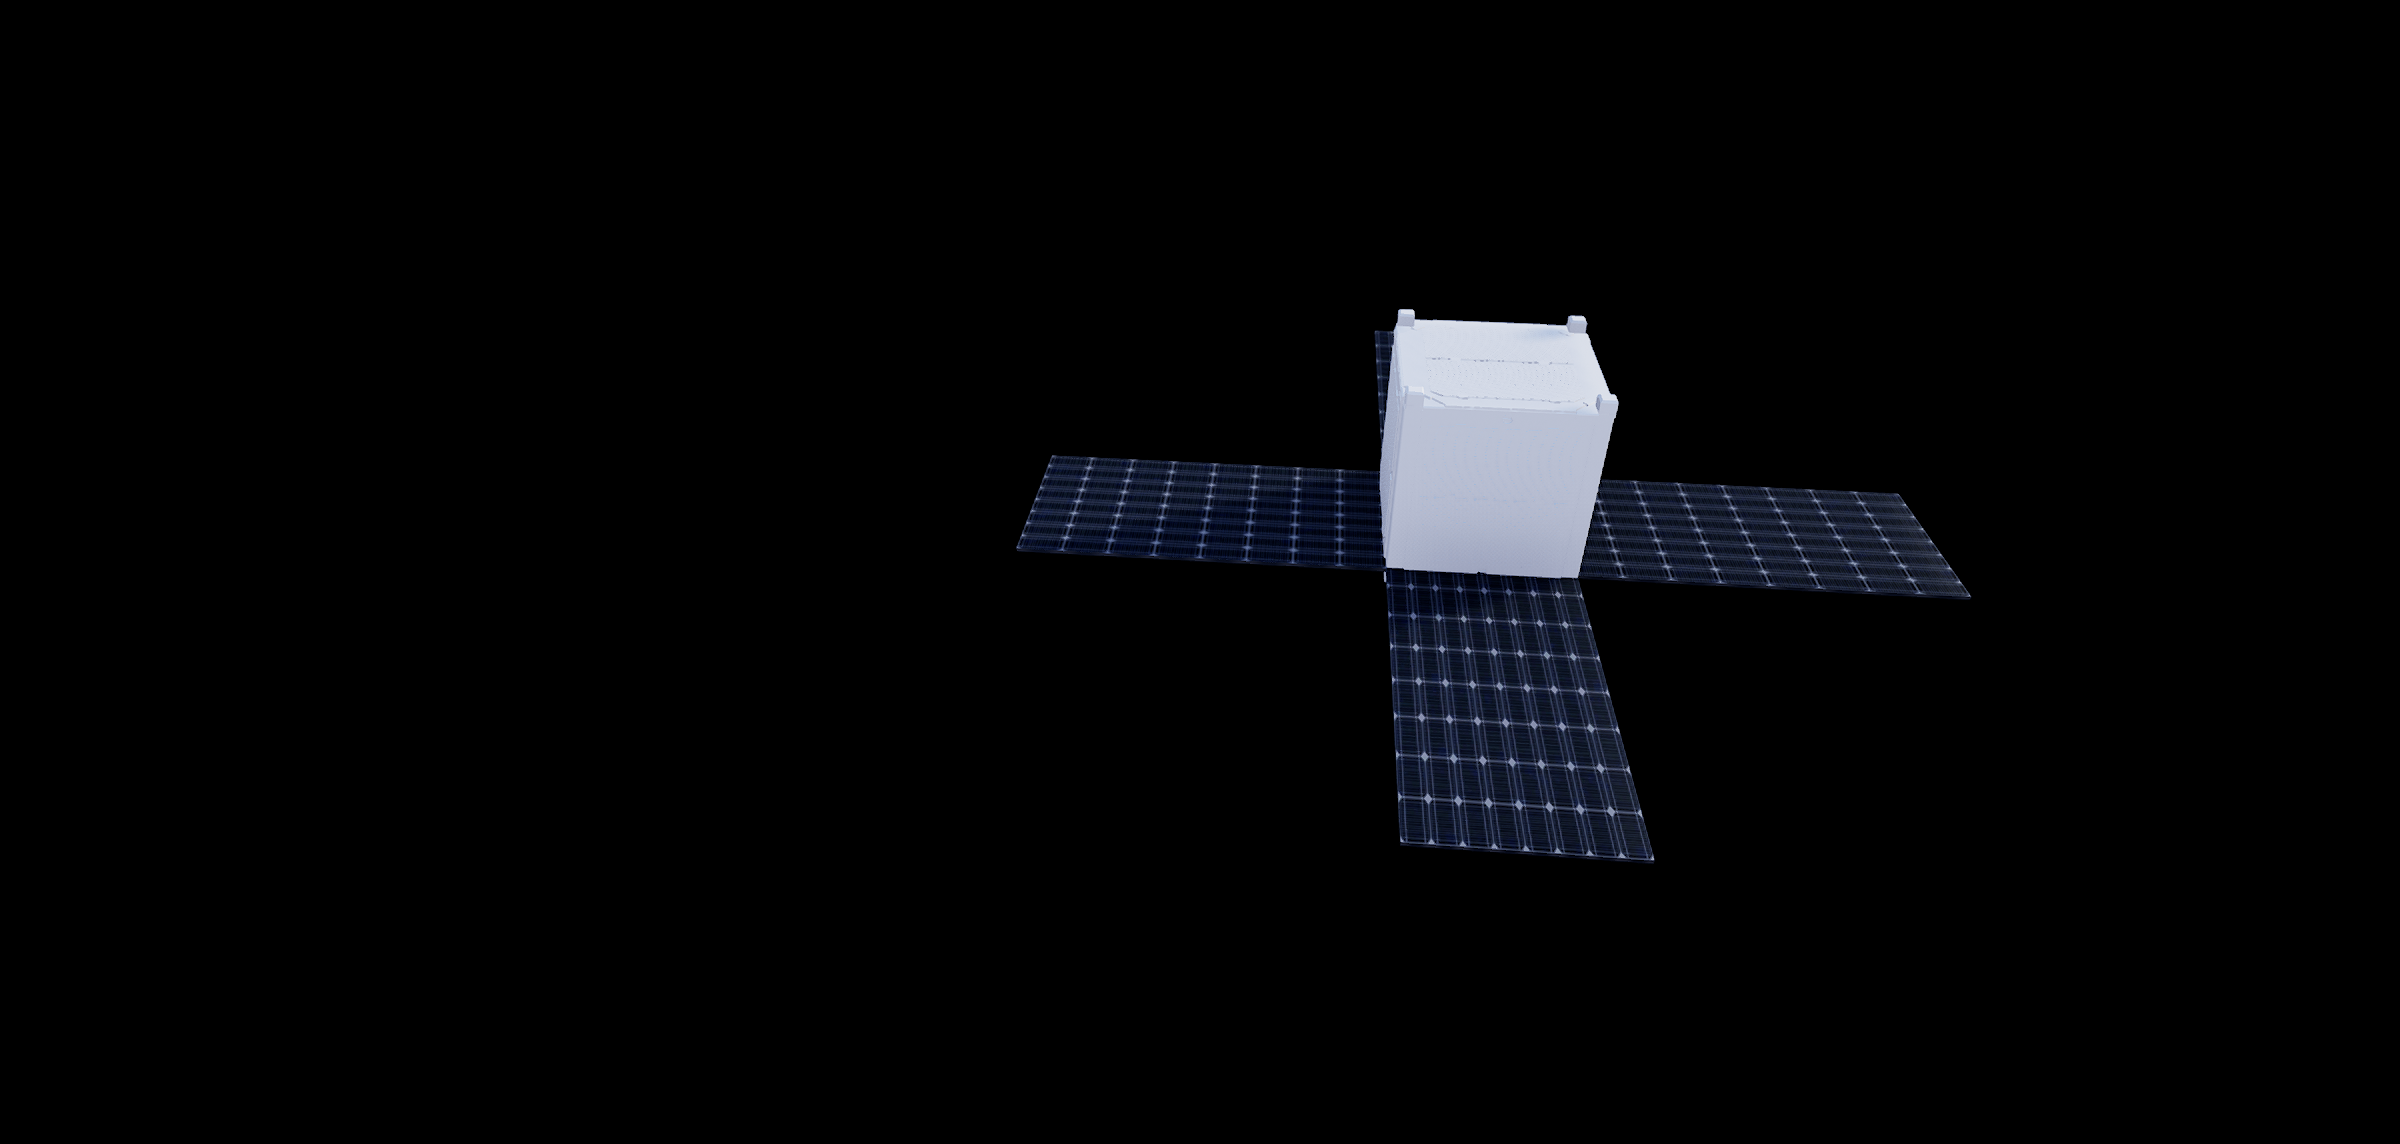satellite: (980, 210, 2001, 933)
